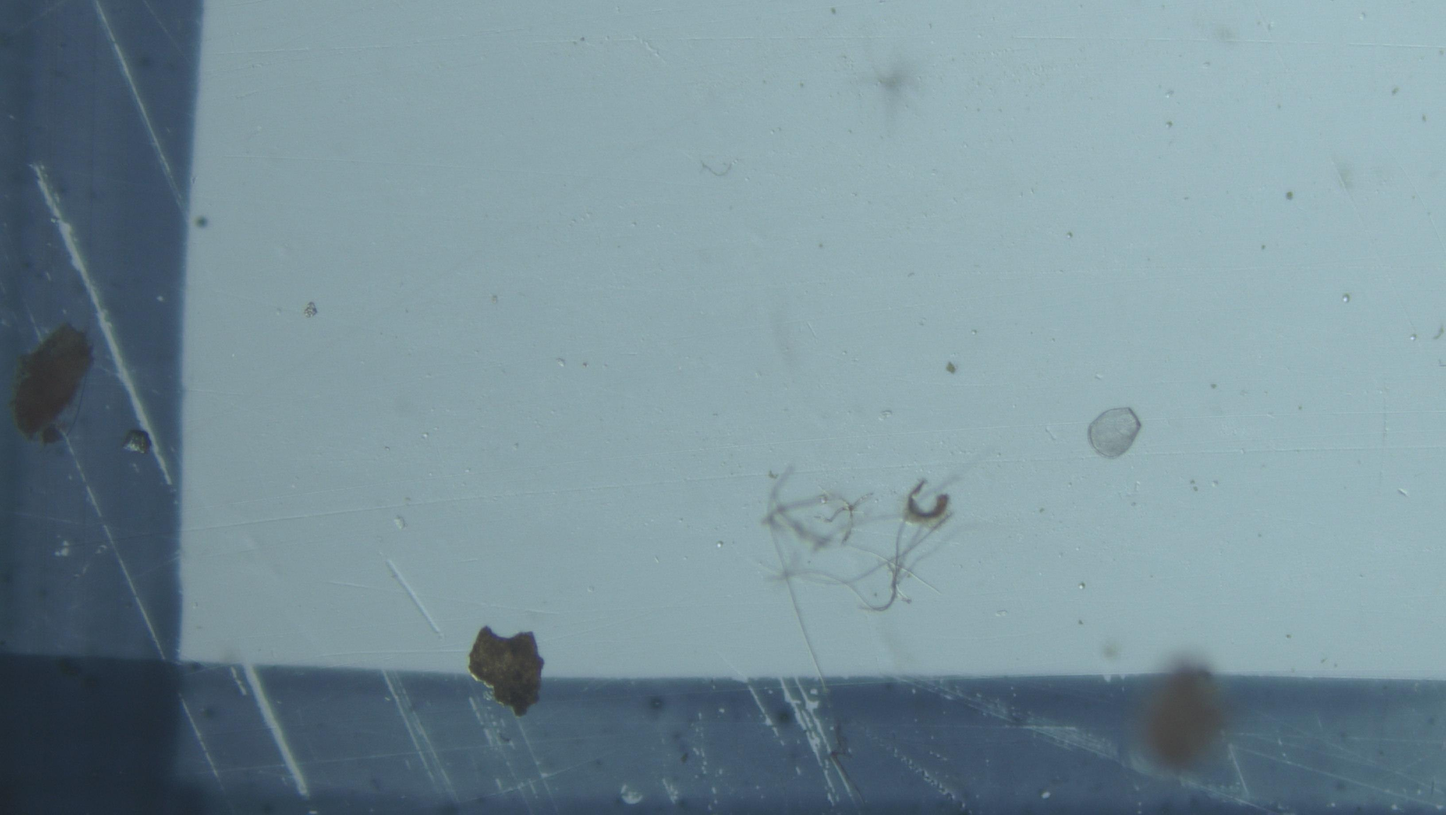dead: (1088, 408, 1141, 458)
